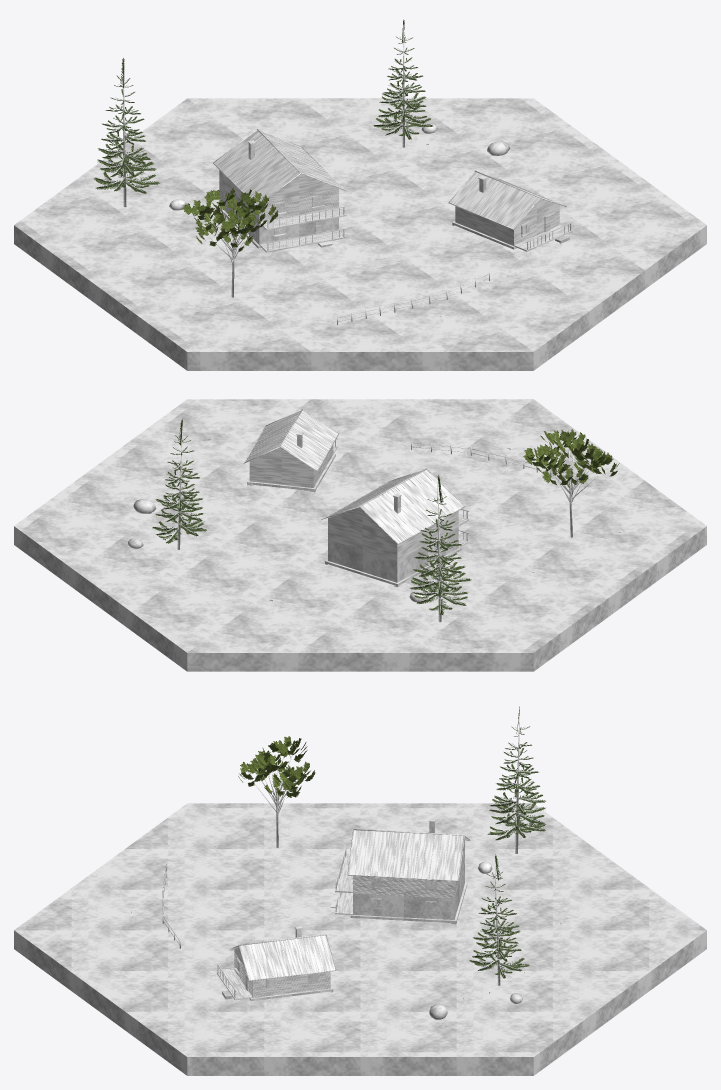
File: caserio.glb
The picture shows the model from 3 angles, top to bottom: view 1: azimuth 30°, elevation 25°; view 2: azimuth 150°, elevation 25°; view 3: azimuth 270°, elevation 25°; orthographic projection.
Parts seen in each view (by area): view 1: caserio.004; view 2: caserio.004; view 3: caserio.004.
Boxes of the visible parts, left/top/right/bottom form: caserio.004: left=14, top=19, right=706, bottom=370; caserio.004: left=14, top=399, right=706, bottom=671; caserio.004: left=14, top=706, right=706, bottom=1075.
Size of the model in its own units: 3.46 by 1.08 by 4.
7 materials, 7 textured.
